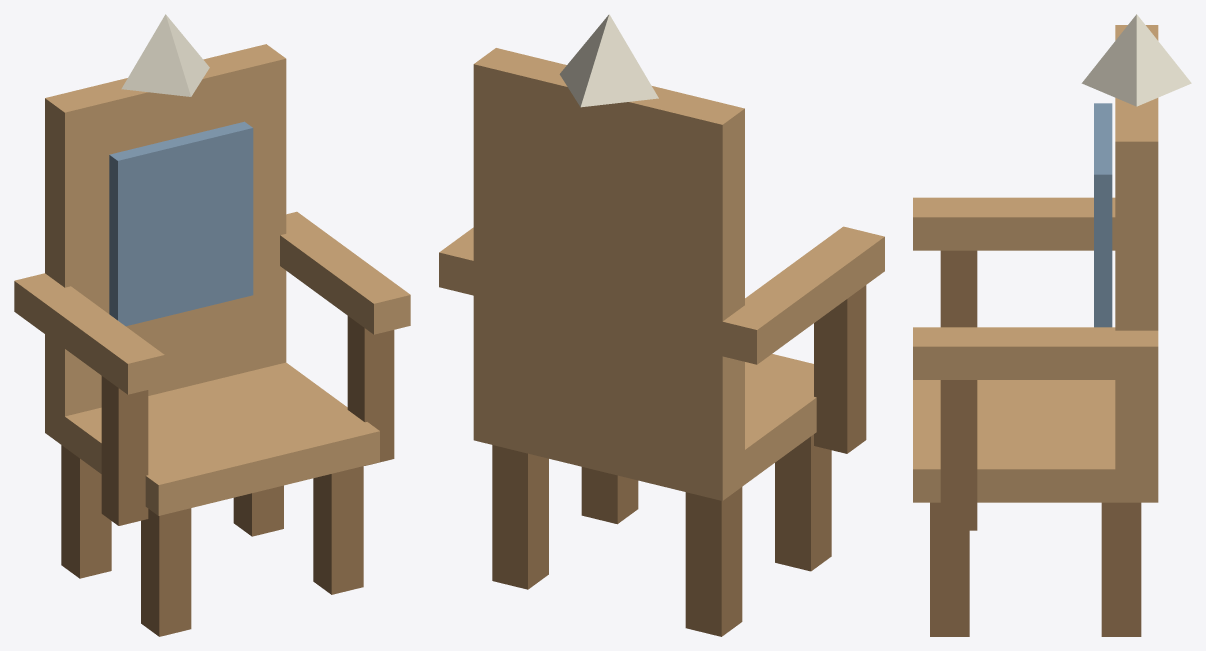
Rendered from throne-chair.glb.
3 views of the same model, side by side, from view 1: azimuth 30°, elevation 25°; view 2: azimuth 150°, elevation 25°; view 3: azimuth 270°, elevation 25° (orthographic). The views are drawn at different scales.
Parts seen in each view (by area): view 1: throne-chair; view 2: throne-chair; view 3: throne-chair.
Part boxes in pixels (x1,y1,x2,y2): throne-chair: (14,14,410,636); throne-chair: (439,14,884,636); throne-chair: (913,14,1191,636).
Bounding box in the file's own units: 1.15 × 2.05 × 0.91.
